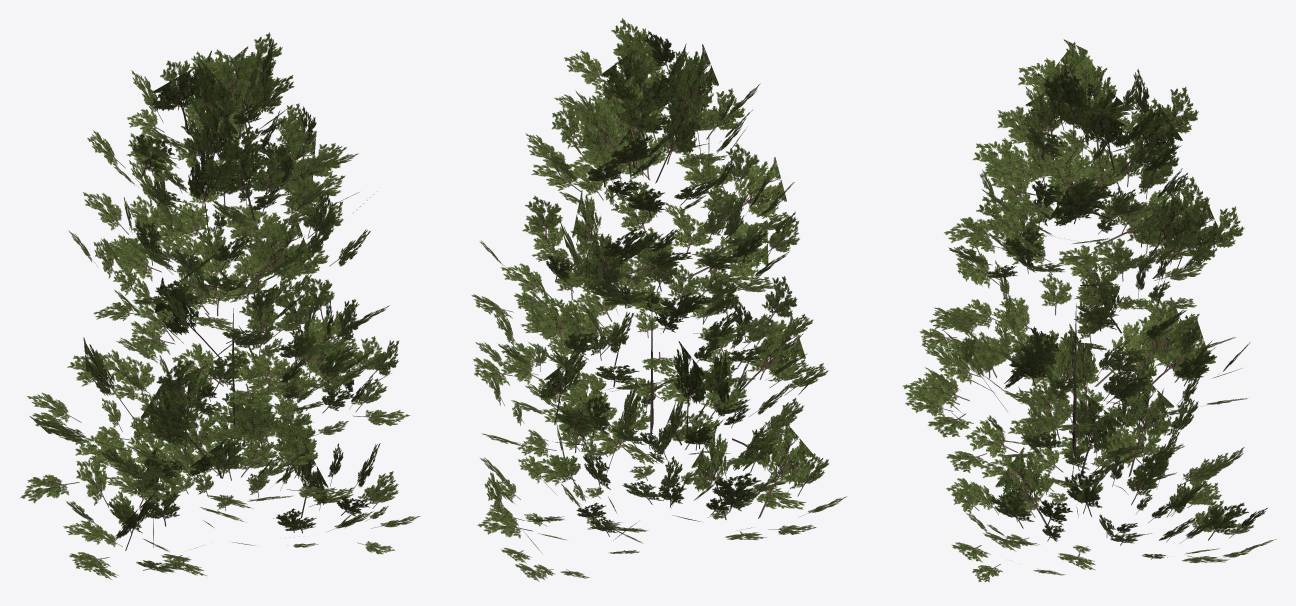
File: noblefir0_lod1.glb
The picture shows the model from 3 angles, left to right: view 1: azimuth 30°, elevation 25°; view 2: azimuth 150°, elevation 25°; view 3: azimuth 270°, elevation 25°; orthographic projection. The views are drawn at different scales.
Parts seen in each view (by area): view 1: NobleFir_LOD1; view 2: NobleFir_LOD1; view 3: NobleFir_LOD1.
Part boxes in pixels (<box>): NobleFir_LOD1: <box>20,32,420,579</box>; NobleFir_LOD1: <box>471,18,847,581</box>; NobleFir_LOD1: <box>902,39,1276,582</box>.
Size of the model in its own units: 5.27 by 7.11 by 5.05.
2 materials, 2 textured.
